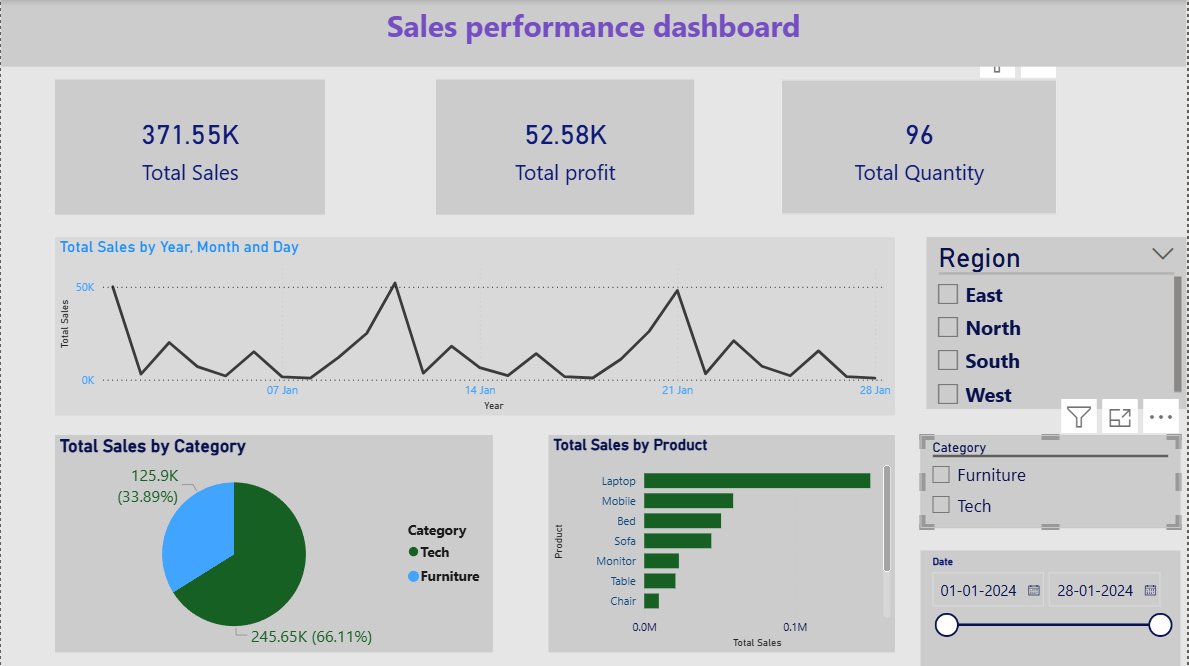

What the dashboard file says about the page in this screenshot:
{"tool":"powerbi","page":{"name":"Page 1","canvas":[1280,720],"ordinal":0},"visuals":[{"type":"card","fields":{"Values":["Sheet1.Total profit"]},"box":[469.6,85.8,278.5,145.7],"z":0},{"type":"card","fields":{"Values":["Sheet1.Total Quantity"]},"box":[842,85.8,297.9,145.7],"z":1000},{"type":"card","fields":{"Values":["Sheet1.Total Sales"]},"box":[58.3,85.8,291.5,145.7],"z":2000},{"type":"lineChart","title":"Total Sales by Year, Month and Day","fields":{"Y":["Sheet1.Total Sales"],"Category":["Sheet1.Date.Variation.Date Hierarchy.Year","Sheet1.Date.Variation.Date Hierarchy.Quarter","Sheet1.Date.Variation.Date Hierarchy.Month","Sheet1.Date.Variation.Date Hierarchy.Day"]},"box":[58.3,255.8,906.8,192.7],"z":3000},{"type":"pieChart","fields":{"Category":["Sheet1.Category"],"Y":["Sheet1.Total Sales"]},"box":[58.3,469.6,472.8,234.8],"z":3001},{"type":"barChart","fields":{"Category":["Sheet1.Product"],"Y":["Sheet1.Total Sales"]},"box":[591,469.6,374,234.8],"z":3002},{"type":"slicer","fields":{"Values":["Sheet1.Region"]},"box":[999.1,255.8,280.1,184.6],"z":3003},{"type":"slicer","fields":{"Values":["Sheet1.Category"]},"box":[992.6,469.6,280.1,100.4],"z":3004},{"type":"slicer","fields":{"Values":["Sheet1.Date"]},"box":[992.6,594.3,280.1,126.3],"z":3005},{"type":"textbox","box":[0,0,1279.4,71.8],"z":3006}]}

Visuals, with their boxes in screenshot pixels (x1, y1, x2, y2), scaled from the page's 1280x720 canvas onto the 1189x666 screenshot:
card - Sheet1.Total profit: bbox(436, 79, 695, 214)
card - Sheet1.Total Quantity: bbox(782, 79, 1059, 214)
card - Sheet1.Total Sales: bbox(54, 79, 325, 214)
"Total Sales by Year, Month and Day" lineChart: bbox(54, 237, 896, 415)
pieChart - Sheet1.Category x Sheet1.Total Sales: bbox(54, 434, 493, 652)
barChart - Sheet1.Product x Sheet1.Total Sales: bbox(549, 434, 896, 652)
slicer - Sheet1.Region: bbox(928, 237, 1188, 407)
slicer - Sheet1.Category: bbox(922, 434, 1182, 527)
slicer - Sheet1.Date: bbox(922, 550, 1182, 665)
textbox: bbox(0, 0, 1188, 66)
